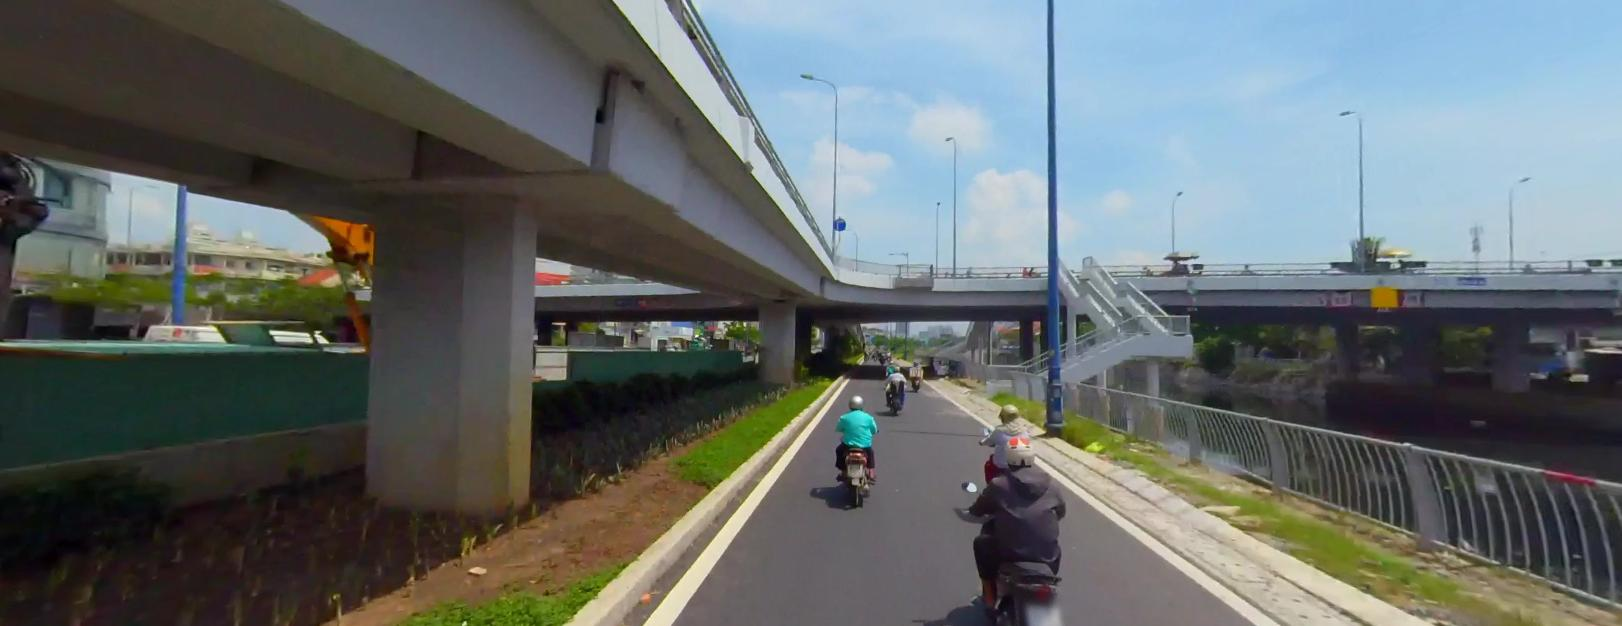Hieu lenh: (832, 217, 845, 230)
